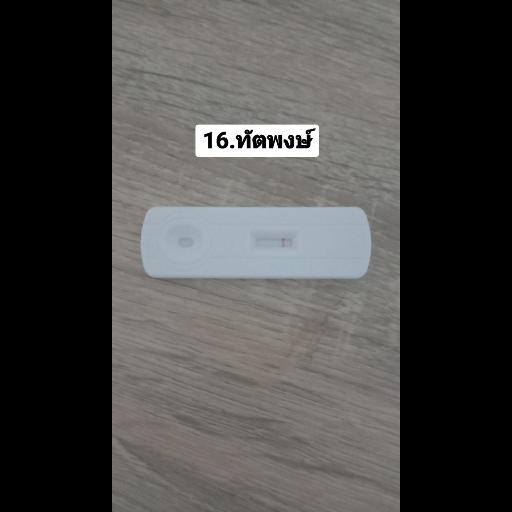Neg: (140, 206, 372, 278)
